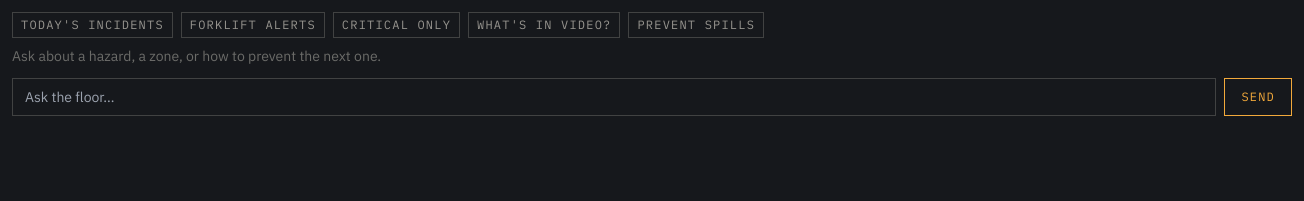
Test: ChatPanel › sends a message and renders the reply
In the field with test id "chat-input": coordinates (614, 97) 12,78 -> 1216,116, type "how many ppe violations today?"
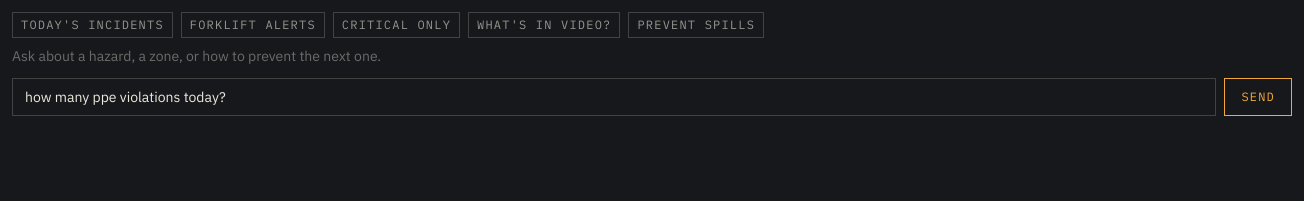
Click the button "Send": coordinates (1258, 97) 1224,78 -> 1292,116
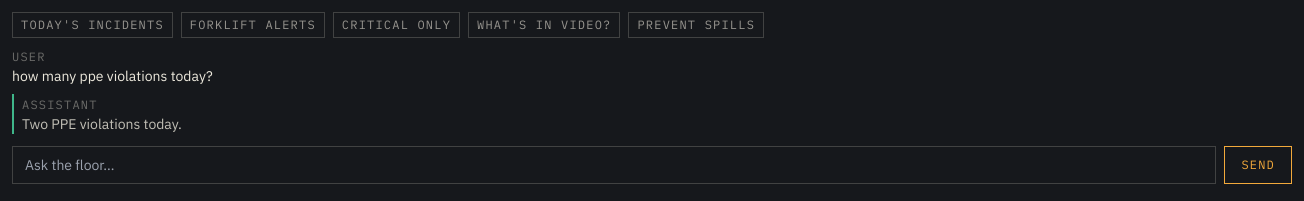
Check: the list with test id "chat-history" shows "Two PPE violations today.", box 22,115 -> 182,133
